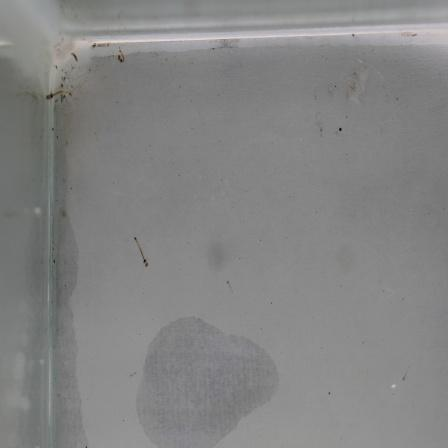Jentik-Nyamuk: (131, 233, 152, 272), (41, 86, 78, 103), (113, 43, 128, 68)
